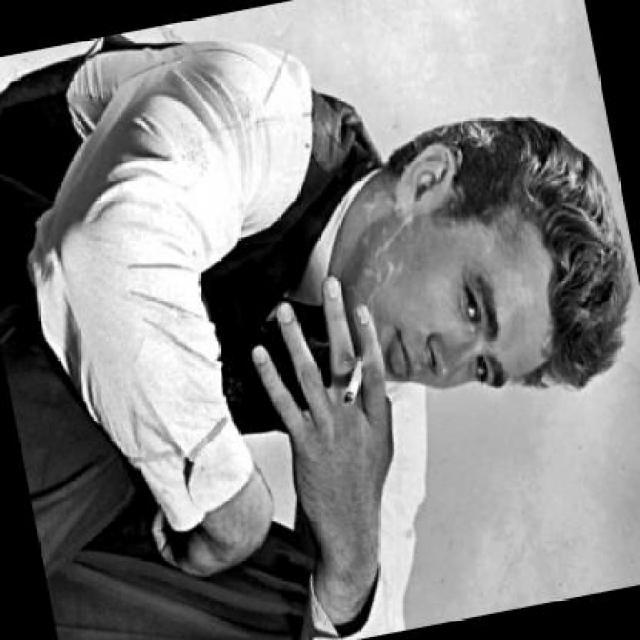cigarette: (332, 356, 370, 409)
